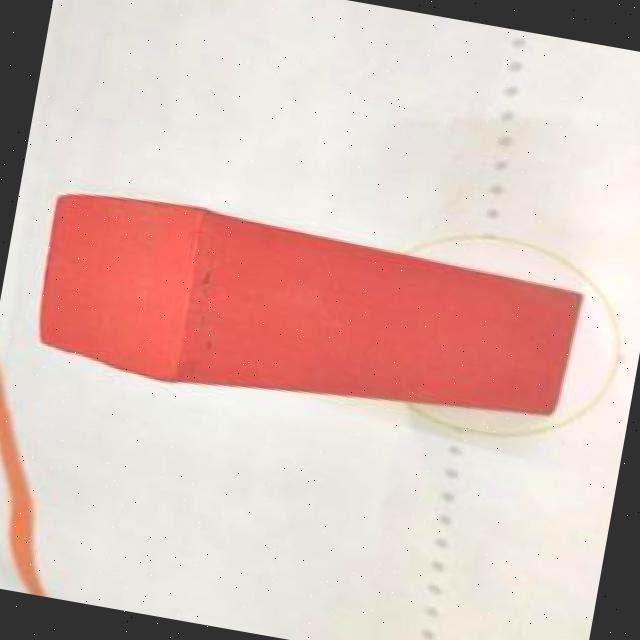redbox: (20, 177, 589, 454)
